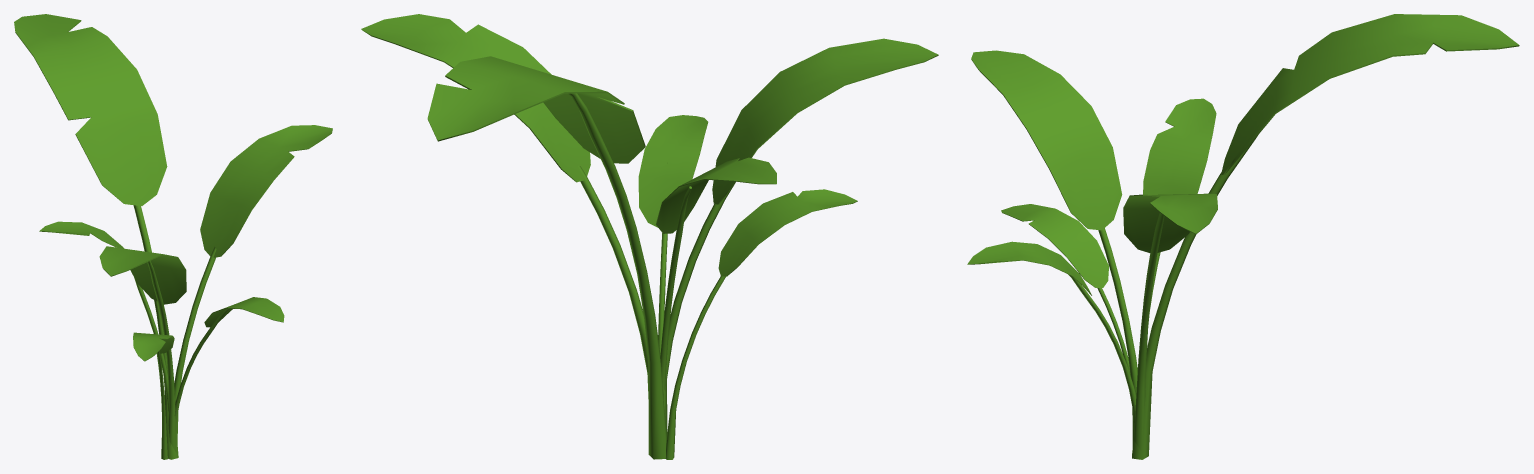
File: Shrub.FBX
3 views of the same model, side by side, from view 1: azimuth 30°, elevation 25°; view 2: azimuth 150°, elevation 25°; view 3: azimuth 270°, elevation 25° (orthographic). The views are drawn at different scales.
Visible parts, largest first — view 1: TropicalPlant; view 2: TropicalPlant; view 3: TropicalPlant.
Part boxes in pixels (x1=…): TropicalPlant: x1=14, y1=14, x2=332, y2=459; TropicalPlant: x1=361, y1=14, x2=938, y2=459; TropicalPlant: x1=967, y1=14, x2=1519, y2=459.
Bounding box in the file's own units: 212 × 221 × 260.
